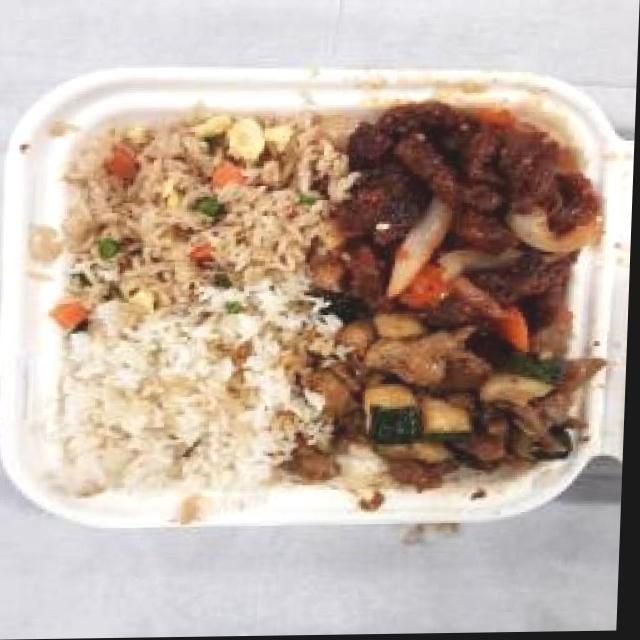Beijing Beef: (306, 90, 625, 321)
Fried Rice: (72, 114, 337, 330)
Kung Pao Chicken: (311, 306, 604, 489)
White Steamed Rice: (51, 324, 300, 497)
